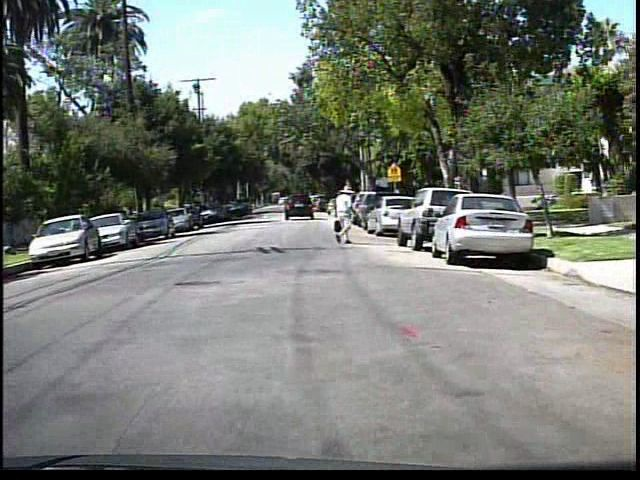person: (330, 184, 362, 245)
